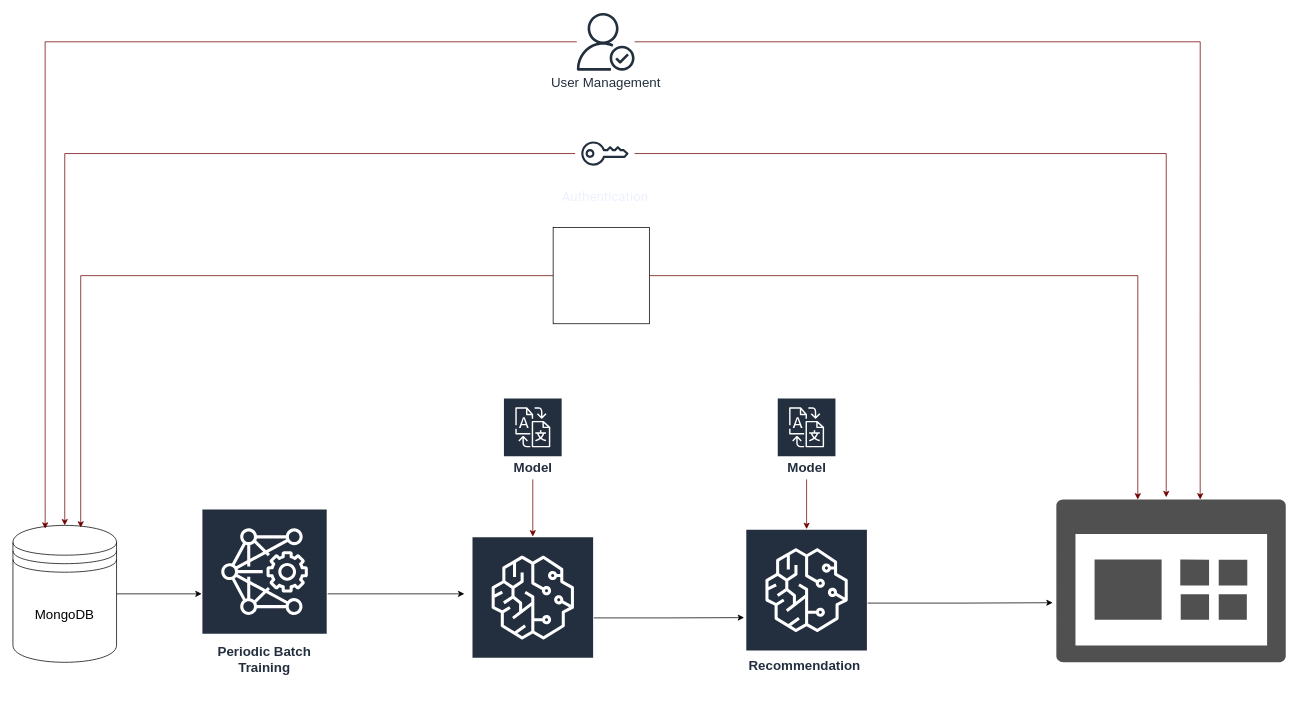
The diagram is 1299 pixels wide and 712 high, and some of its shapes have lost their labels. Here are the shapes that lost their labels. From the top down, the centre of each, then its label:
At (x=600, y=275): "Content Management".
At (x=1170, y=580): "Admin Dashboard".
At (x=532, y=617): "Sentiment Analysis".
